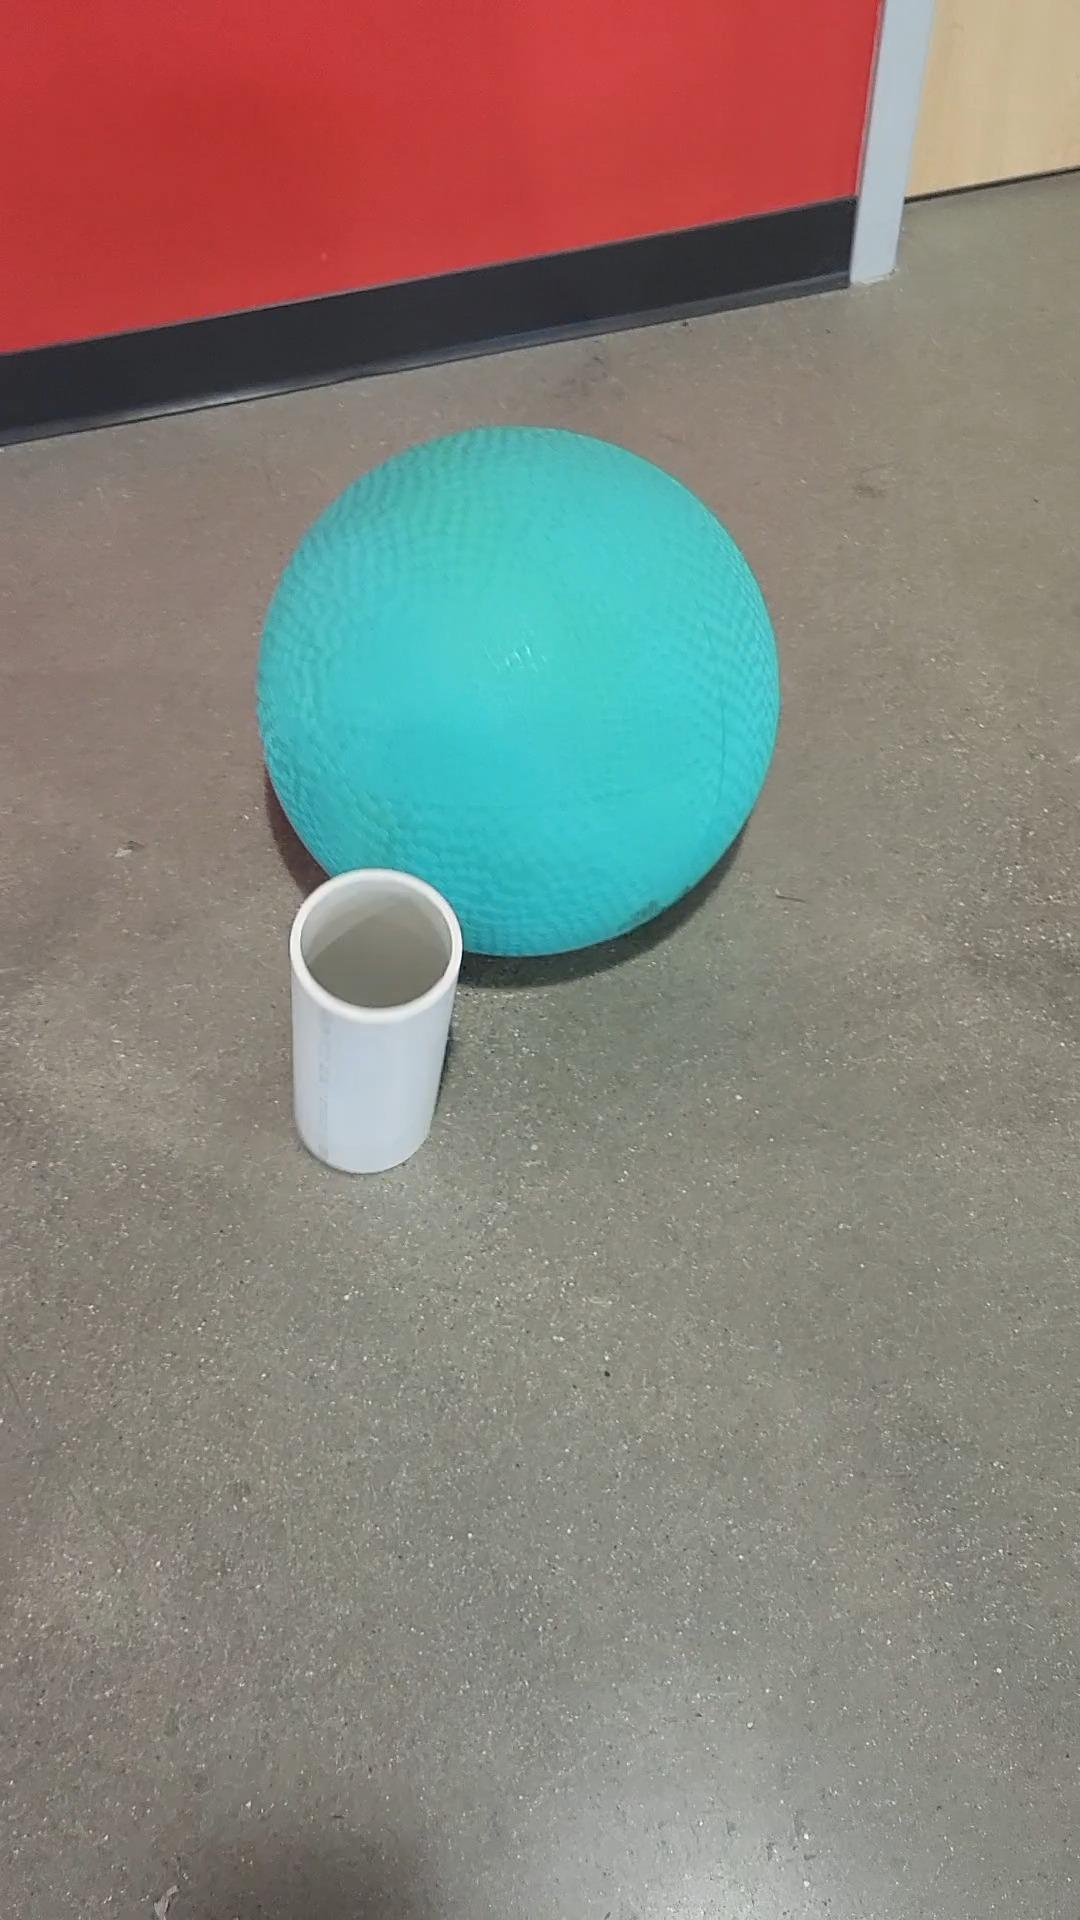algae: (251, 422, 783, 955)
coral: (257, 872, 455, 1168)
